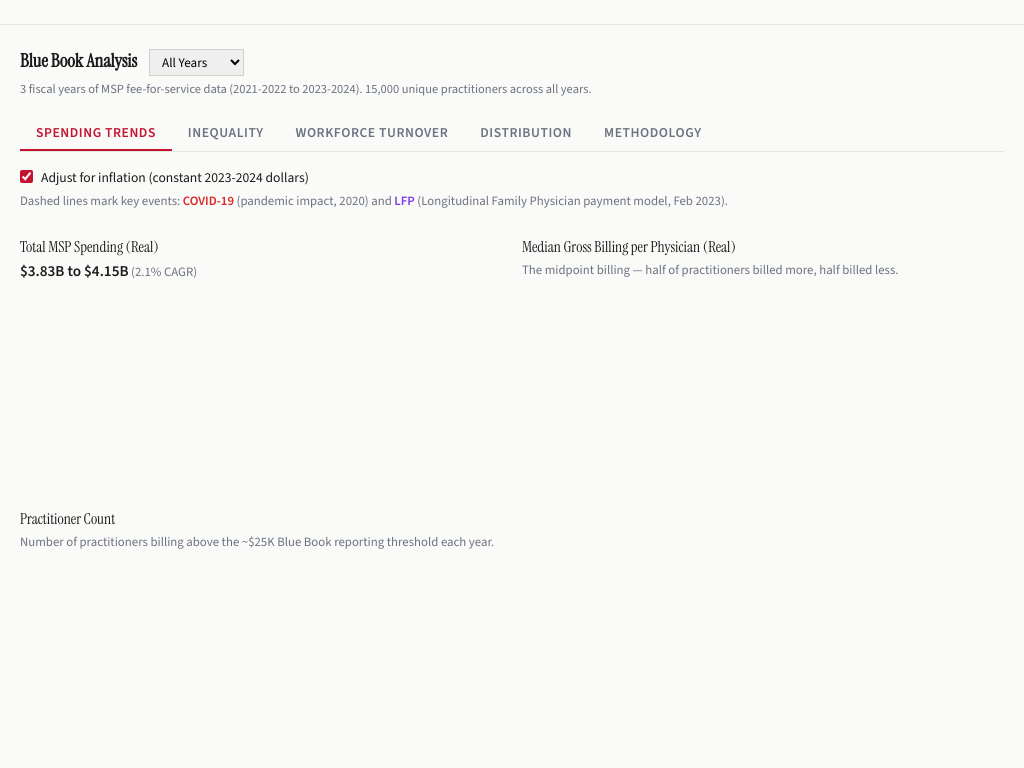
Test case: BillingTrends › switches to Inequality tab on click
The width and height of the screenshot is (1024, 768).
Click the button "Inequality": click(226, 133) left=172, top=115, right=280, bottom=151
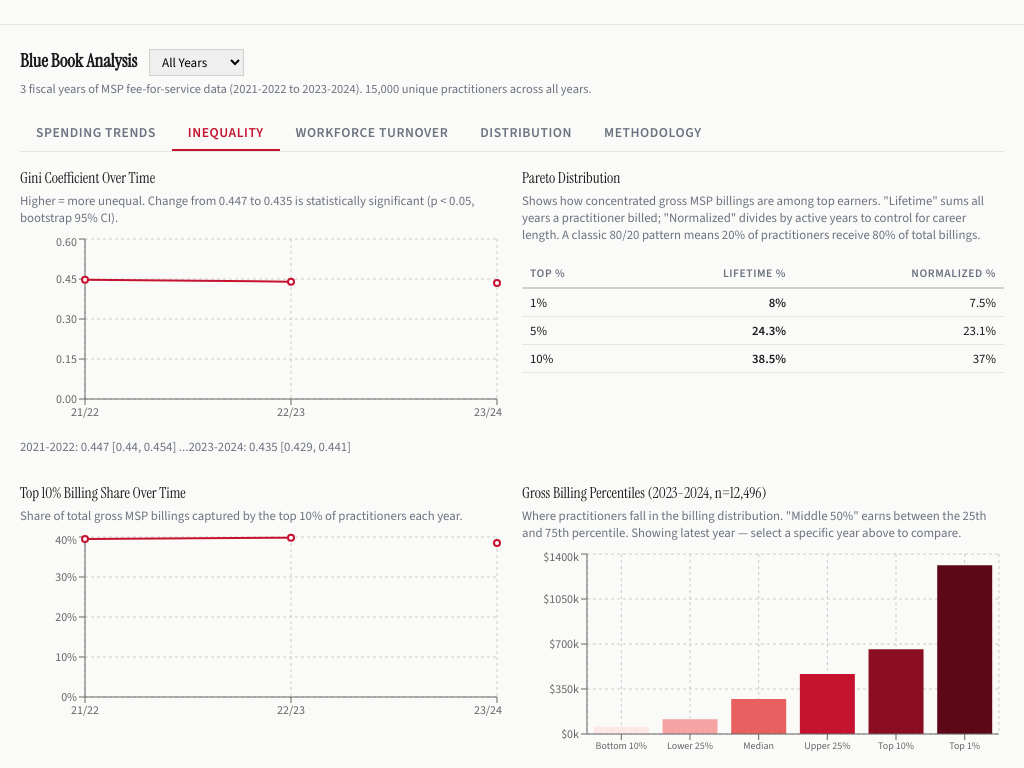
Expected: the heading "Gini Coefficient Over Time" is shown, left=20, top=168, right=155, bottom=188
